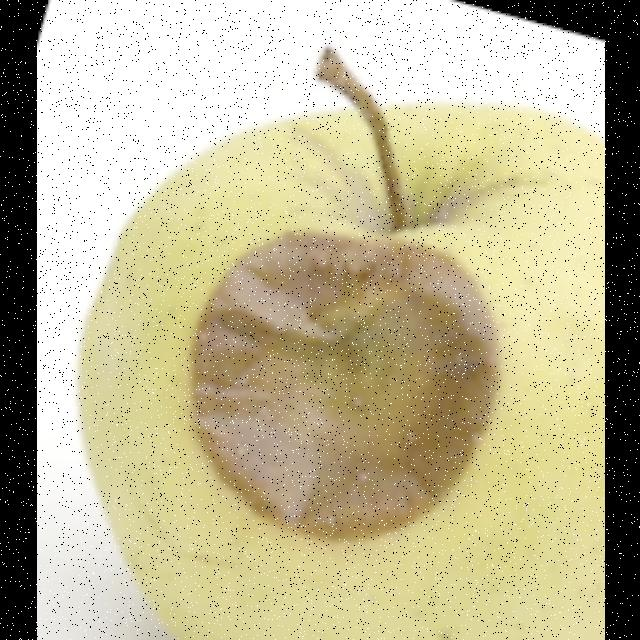Apel Tidak Segar: (50, 42, 604, 640)
